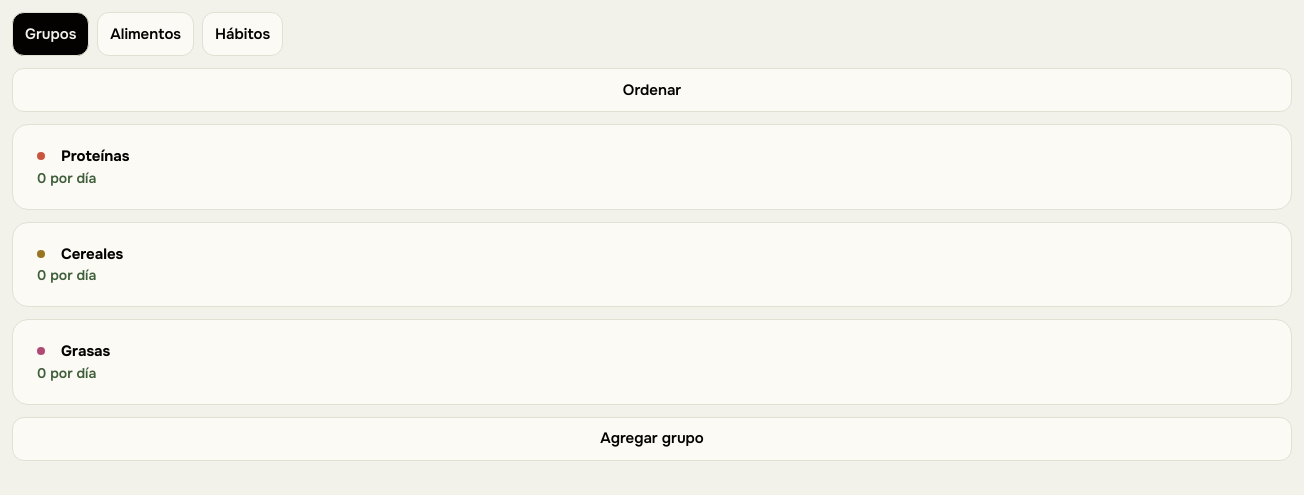
Test: hábitos muestran meta, paso, período y destino según D11 y P2
The image size is (1304, 495).
Check: the text "Proteínas" is shown, box [37,146,130,166]
What coordinates should you click on to do the following:
click the button "Hábitos"
I would click on:
 (243, 34)
Its box is [202,12,283,56].
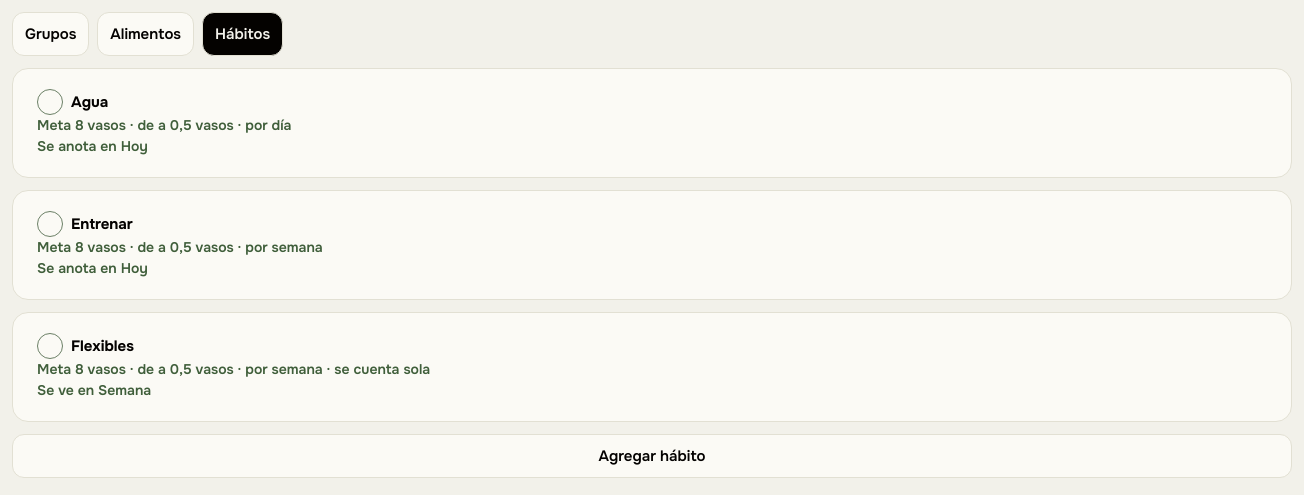
Check: the button with aria-label "Editar Agua" shows "Meta 8 vasos · de a 0,5 vasos · por día", box [25,81,1279,165]
Check: the button with aria-label "Editar Flexibles" shows "Se ve en Semana", box [25,325,1279,409]
